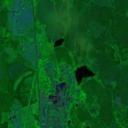alloviz: (73, 63, 96, 84), (52, 36, 65, 49)
